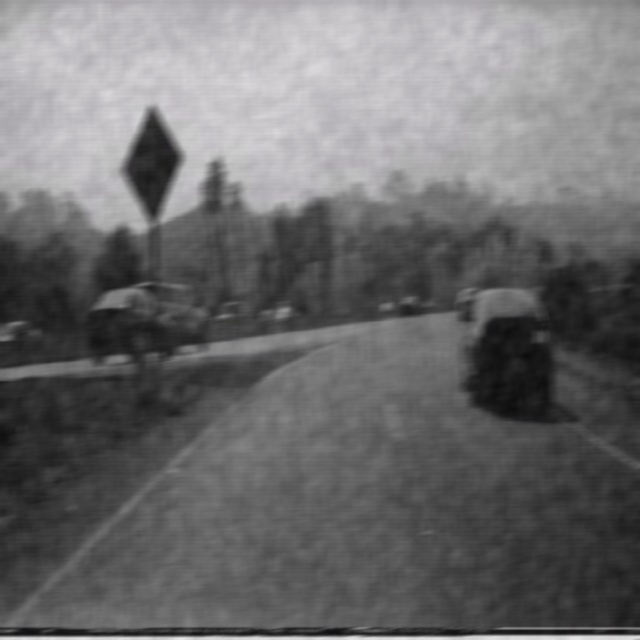addedLane: (123, 103, 182, 225)
